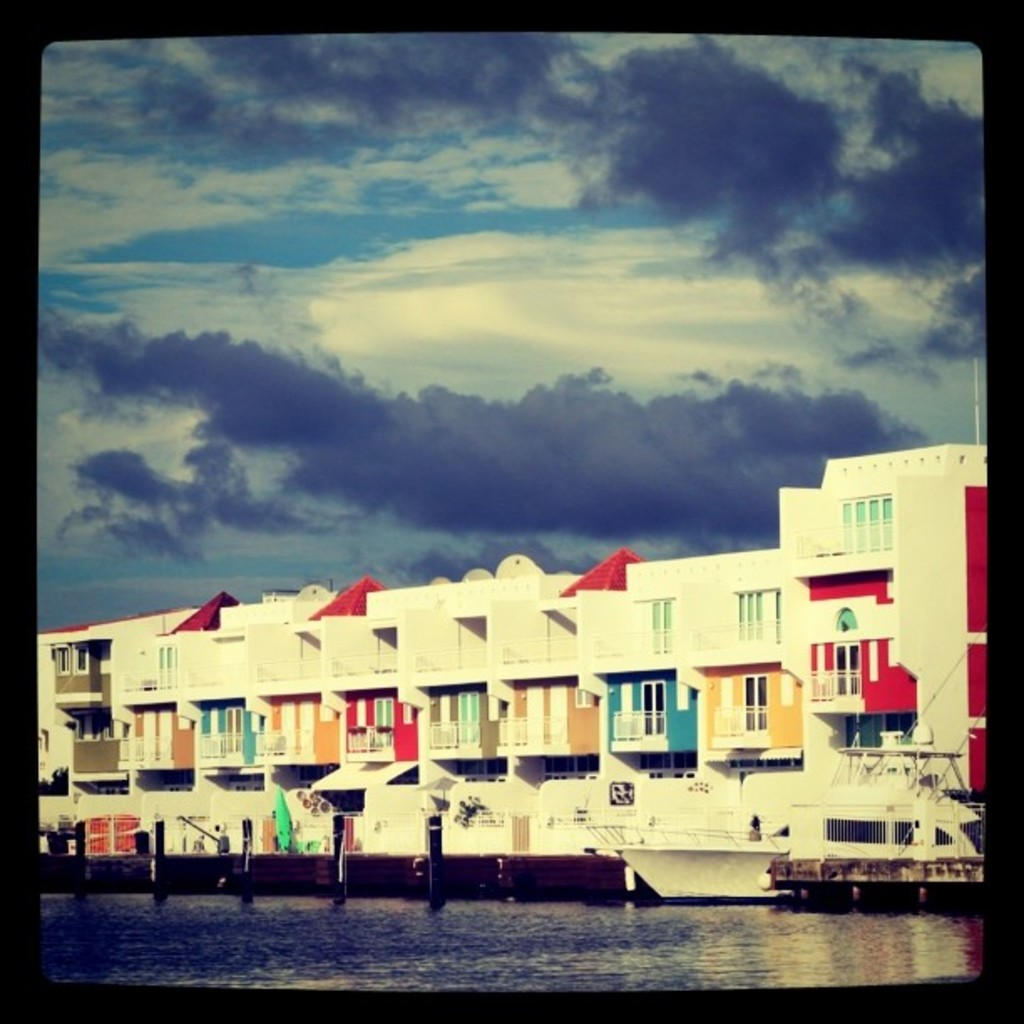boat: (577, 717, 1008, 919)
